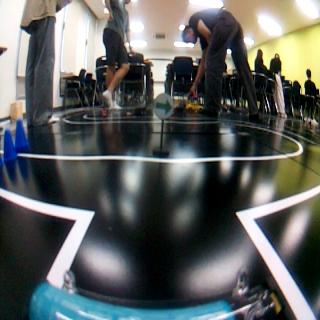right: (154, 93, 173, 117)
